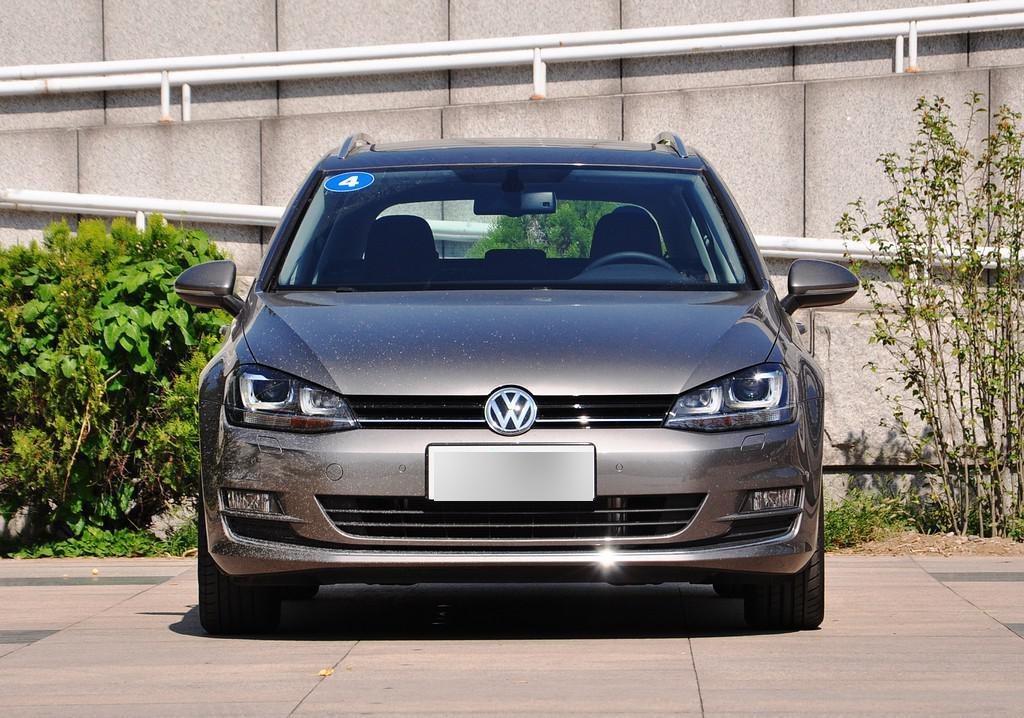Wagon: (175, 130, 860, 628)
